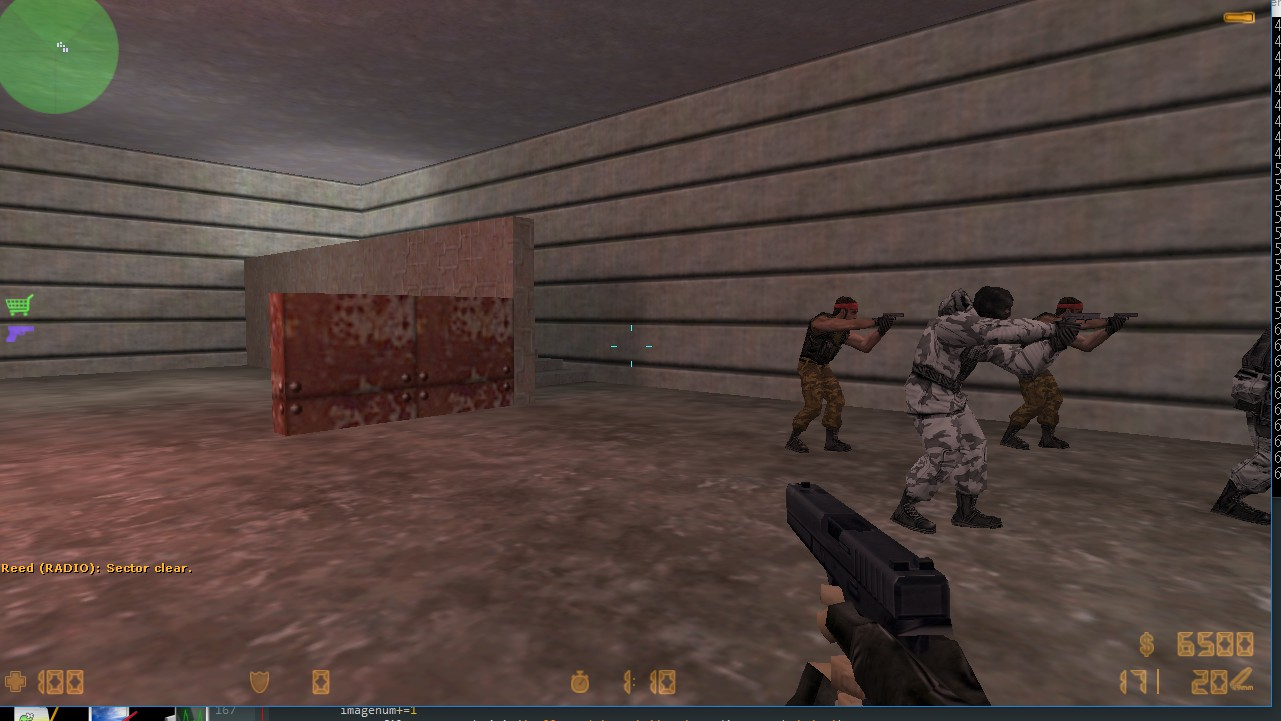person: (907, 284, 1003, 521), (1017, 285, 1128, 453), (788, 284, 861, 445)
